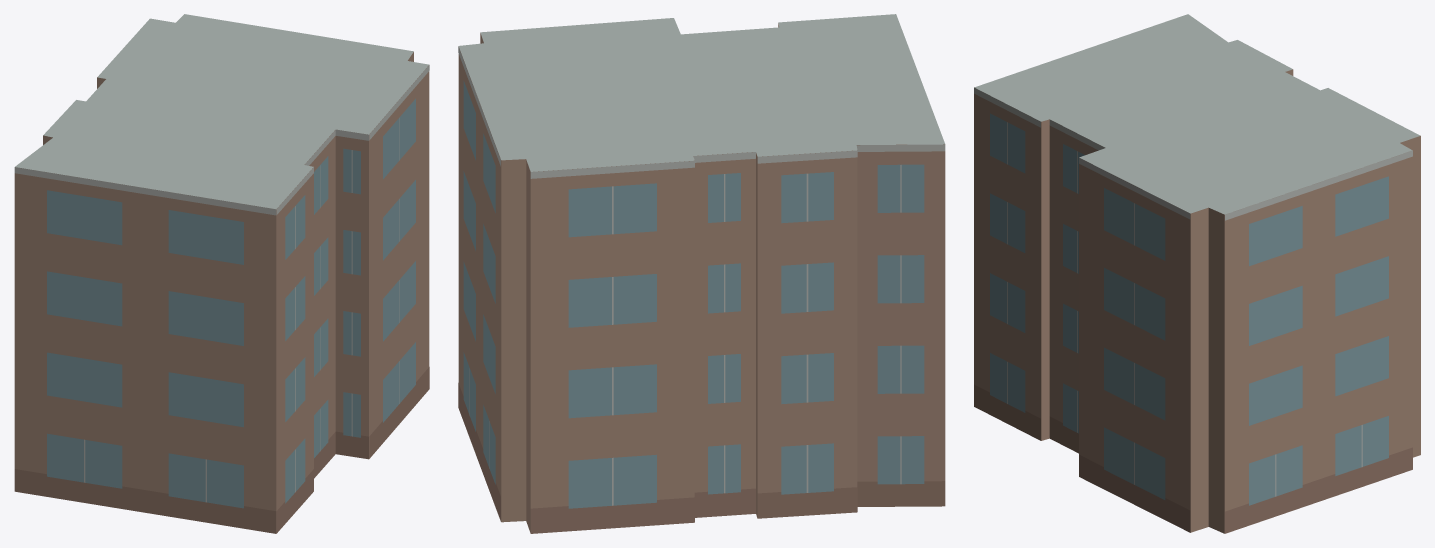
File: survey-upis-32762121.glb
3 renders of one model, left to right at view 1: azimuth 30°, elevation 25°; view 2: azimuth 150°, elevation 25°; view 3: azimuth 270°, elevation 25°, orthographic. The views are drawn at different scales.
Visible parts, largest first — view 1: survey-upis-32762121.tmp; view 2: survey-upis-32762121.tmp; view 3: survey-upis-32762121.tmp.
Boxes of the visible parts, x1,y1,x2,y2 form: survey-upis-32762121.tmp: (14, 14, 429, 533); survey-upis-32762121.tmp: (458, 14, 945, 533); survey-upis-32762121.tmp: (974, 14, 1420, 533).
Size of the model in its own units: 17.13 by 12.7 by 16.11.
